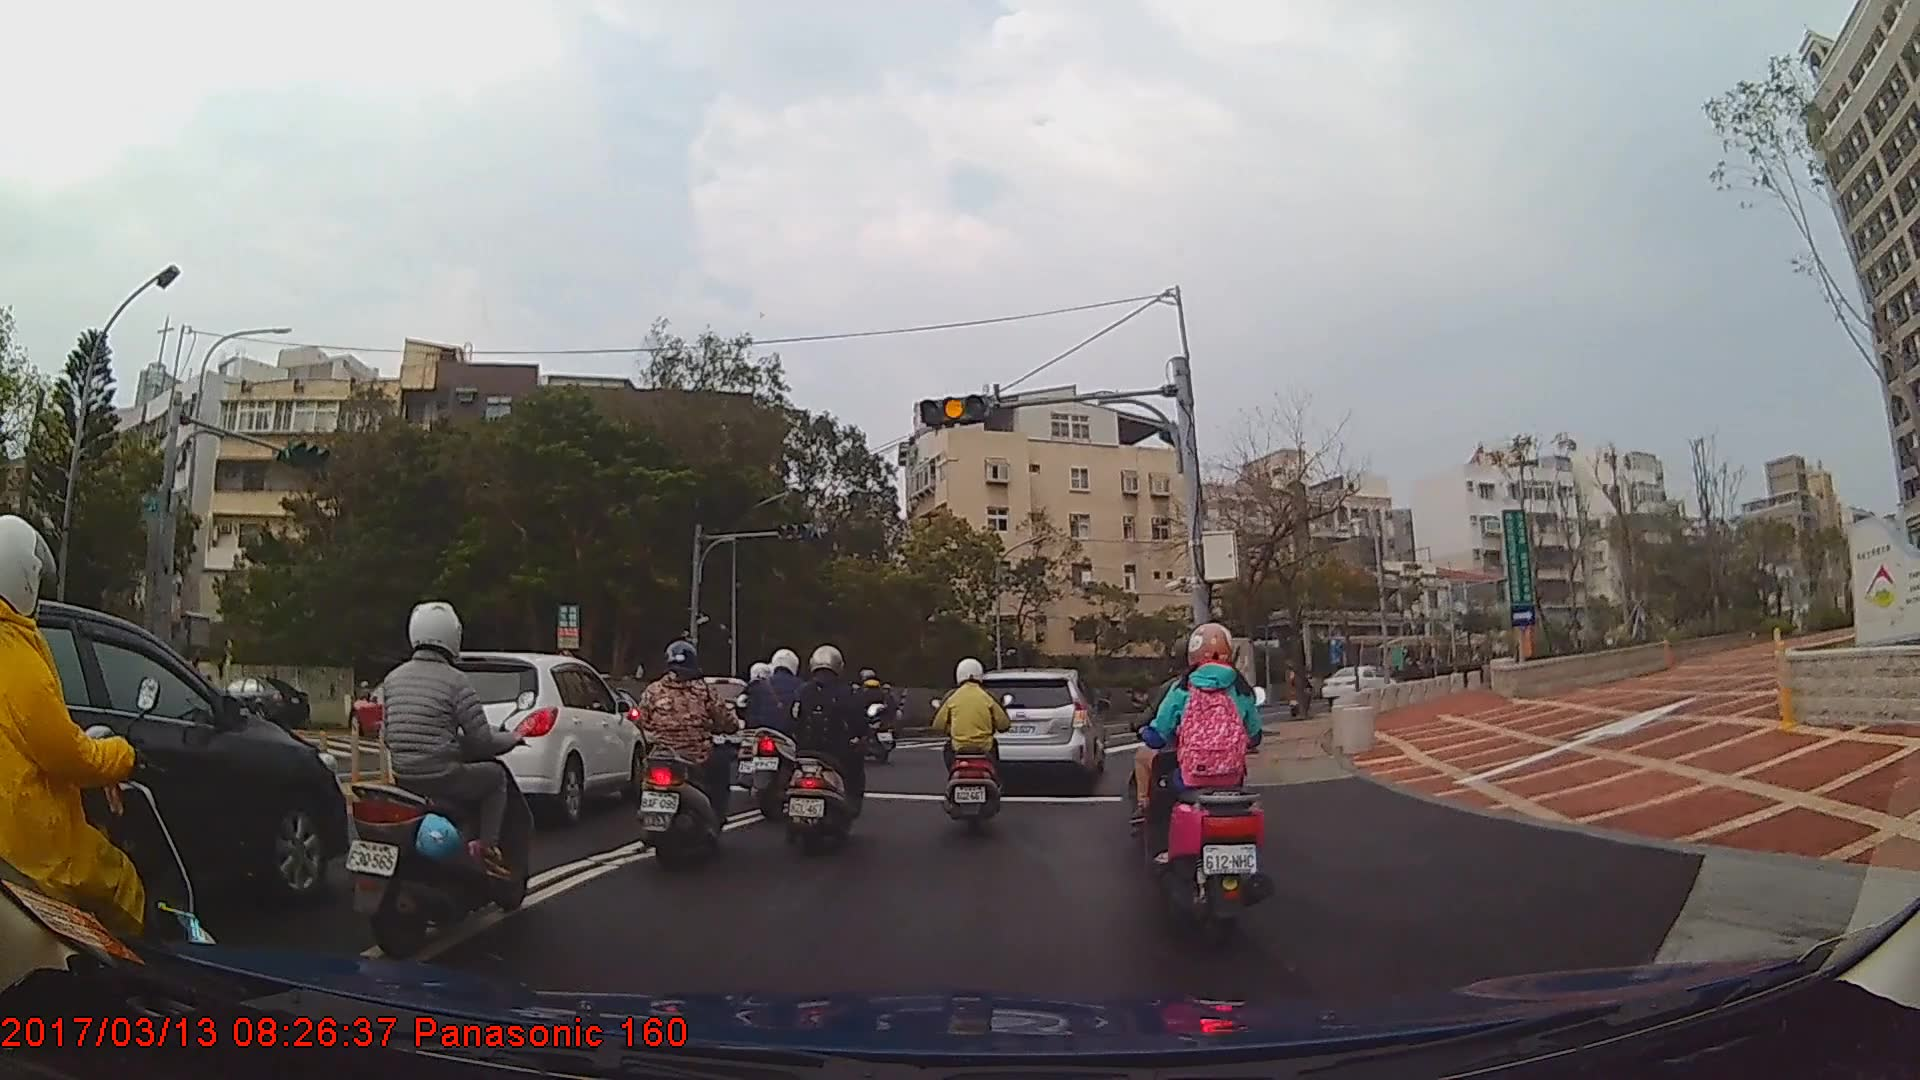rider: (1, 513, 208, 1047), (350, 599, 543, 955), (1143, 620, 1269, 925), (630, 641, 746, 877), (780, 643, 876, 858), (930, 661, 1019, 832), (745, 646, 819, 818), (733, 665, 792, 805), (844, 668, 899, 765)
vehicle: (0, 595, 346, 932), (386, 650, 646, 829), (965, 667, 1105, 788), (347, 676, 449, 736), (205, 674, 309, 731), (1318, 665, 1393, 706)
